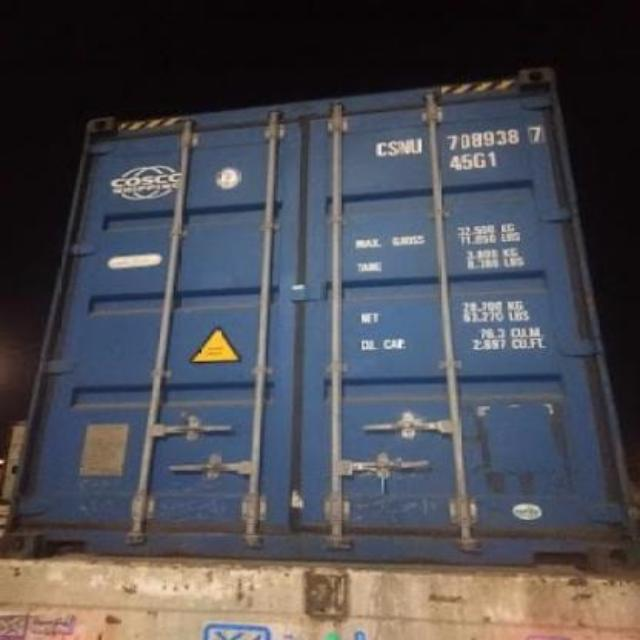0: (460, 134, 472, 148)
3: (496, 132, 508, 144)
7: (528, 126, 544, 142), (446, 133, 459, 151)
8: (508, 129, 520, 145), (472, 132, 482, 146)
9: (484, 130, 494, 146)
C: (376, 139, 388, 157)
N: (400, 138, 410, 156)
S: (390, 140, 400, 156)
U: (412, 136, 422, 156)
